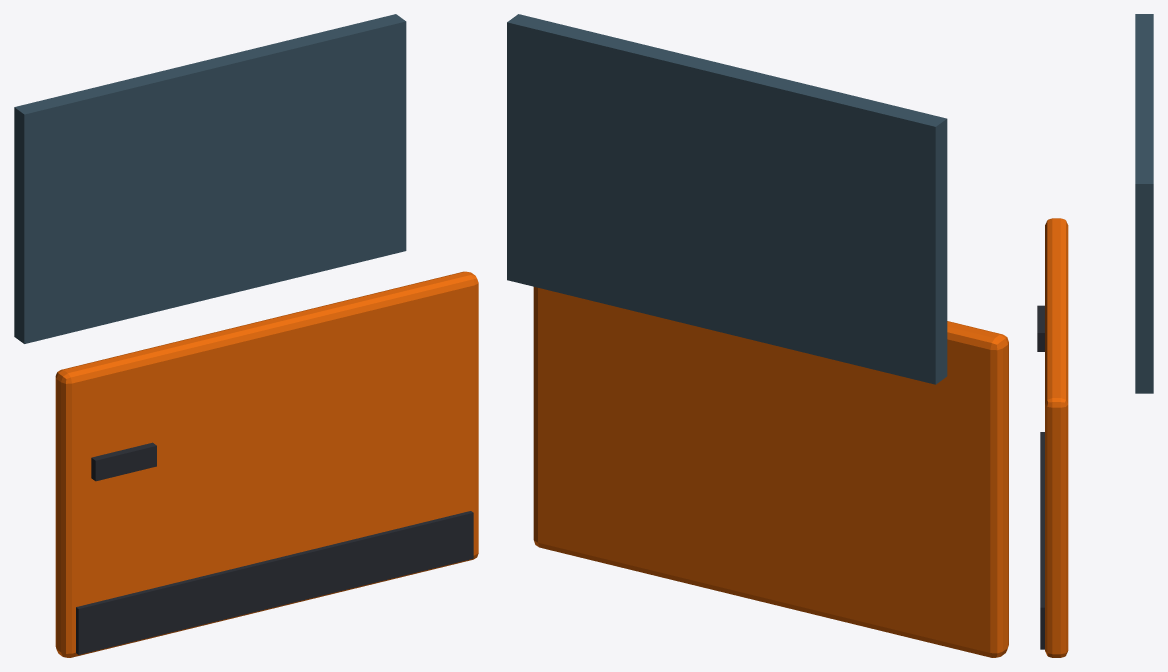
File: door_r.obj
The picture shows the model from 3 angles, left to right: view 1: azimuth 30°, elevation 25°; view 2: azimuth 150°, elevation 25°; view 3: azimuth 270°, elevation 25°; orthographic projection. The views are drawn at different scales.
Parts seen in each view (by area): view 1: Cube; view 2: Cube; view 3: Cube.
Boxes of the visible parts, x1,y1,x2,y2 form: Cube: (14,14,478,657); Cube: (507,14,1008,657); Cube: (1037,14,1153,657).
Size of the model in its own units: 0.95 by 1.11 by 0.252.
